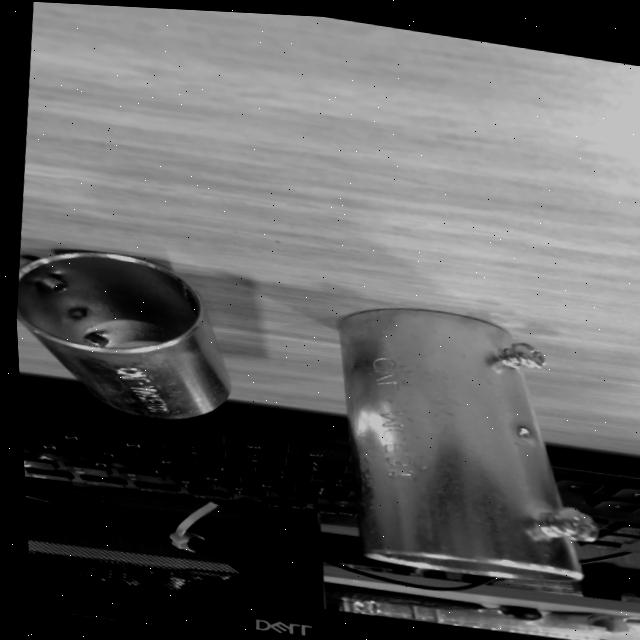Co_Lon: (333, 287, 601, 603)
Co_Nho: (0, 187, 263, 462)
